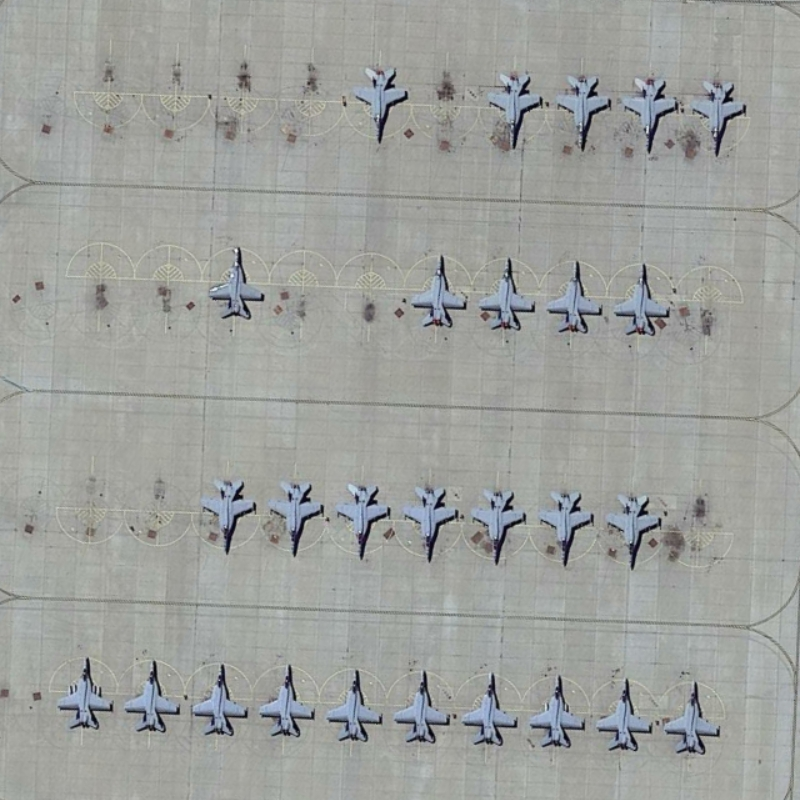A16: (600, 490, 670, 576), (197, 472, 261, 562), (464, 482, 529, 569), (347, 63, 413, 148), (662, 674, 726, 760), (253, 660, 319, 743), (51, 654, 119, 734), (688, 76, 751, 162), (483, 70, 547, 154), (398, 479, 459, 567), (523, 671, 589, 752), (475, 252, 539, 335), (535, 484, 595, 572), (267, 475, 329, 560), (406, 250, 471, 331), (553, 72, 616, 155), (620, 75, 683, 158), (591, 676, 658, 754), (121, 655, 183, 738), (188, 659, 250, 742), (388, 667, 453, 746), (543, 256, 604, 340), (331, 479, 392, 563), (610, 259, 673, 340), (205, 243, 269, 321), (460, 666, 519, 748), (324, 666, 384, 743)
